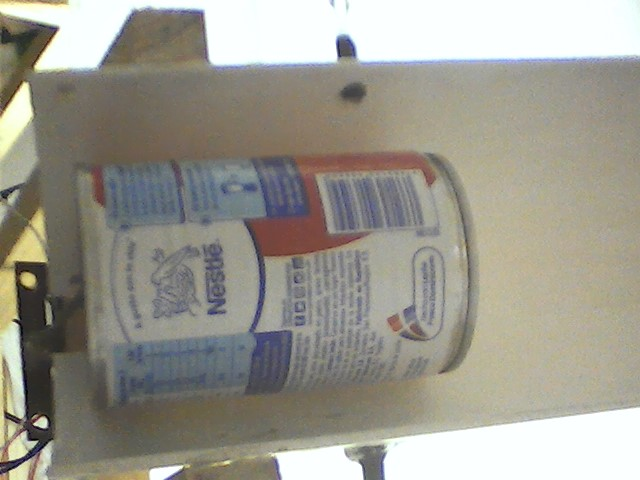lata: (66, 149, 495, 418)
